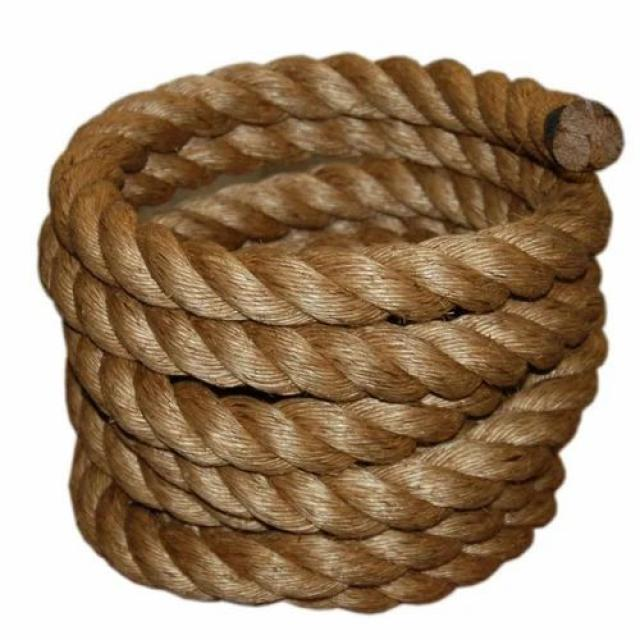Rope: (32, 41, 627, 615)
